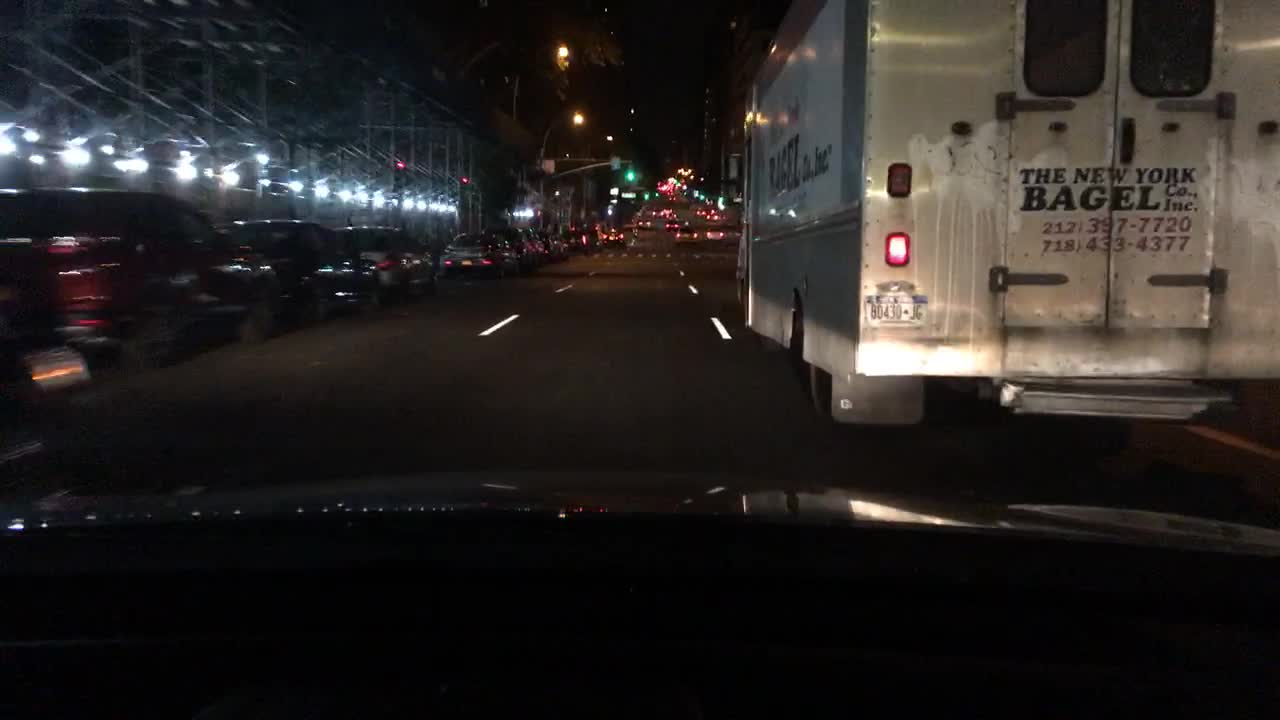car: (0, 184, 276, 357), (212, 218, 381, 332), (0, 281, 86, 498), (334, 224, 439, 299), (442, 232, 517, 277), (507, 227, 541, 269), (529, 230, 568, 262), (598, 221, 631, 245), (565, 224, 589, 256), (579, 224, 607, 251), (701, 223, 724, 245), (722, 220, 740, 245), (674, 224, 694, 245), (703, 209, 725, 226), (664, 217, 679, 235), (694, 203, 709, 220), (636, 215, 649, 230), (661, 206, 674, 221), (649, 205, 661, 221), (664, 191, 676, 203)
traffic light: (390, 158, 405, 184), (639, 187, 649, 206), (609, 157, 622, 170), (529, 208, 543, 220), (457, 176, 469, 190), (625, 166, 634, 179)
traffic sign: (541, 161, 553, 175), (619, 191, 637, 200)
truck: (725, 1, 1277, 424)
